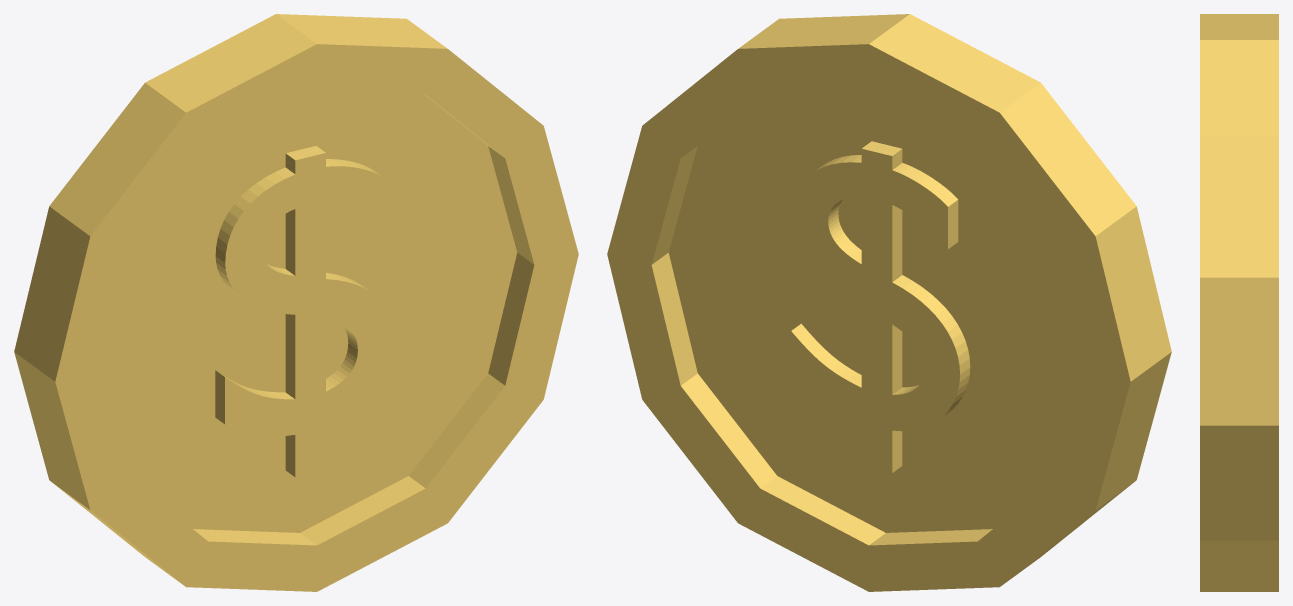
File: coin.glb
3 views of the same model, side by side, from view 1: azimuth 30°, elevation 25°; view 2: azimuth 150°, elevation 25°; view 3: azimuth 270°, elevation 25° (orthographic). The views are drawn at different scales.
Parts seen in each view (by area): view 1: Cylinder; view 2: Cylinder; view 3: Cylinder.
Boxes of the visible parts, left/top/right/bottom form: Cylinder: left=14, top=14, right=578, bottom=591; Cylinder: left=607, top=14, right=1171, bottom=591; Cylinder: left=1200, top=14, right=1278, bottom=591.
Bounding box in the file's own units: 0.5345 × 0.5345 × 0.0728.
